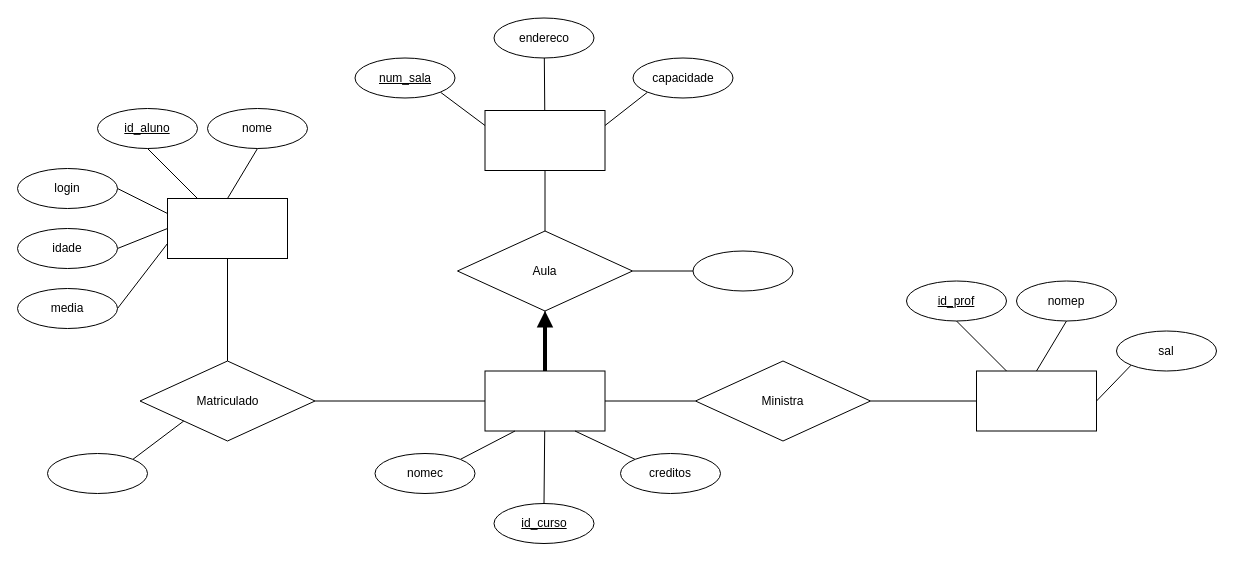
Some shapes in this 1234 by 561 pixel diagram are drawn without their labels. Each missing label, with the centre of its shape:
"Alunos" goes at (227,228).
"Cursos" goes at (544,400).
"horario" goes at (742,270).
"nota" goes at (97,473).
"Professores" goes at (1036,400).
"Salas" goes at (544,140).
